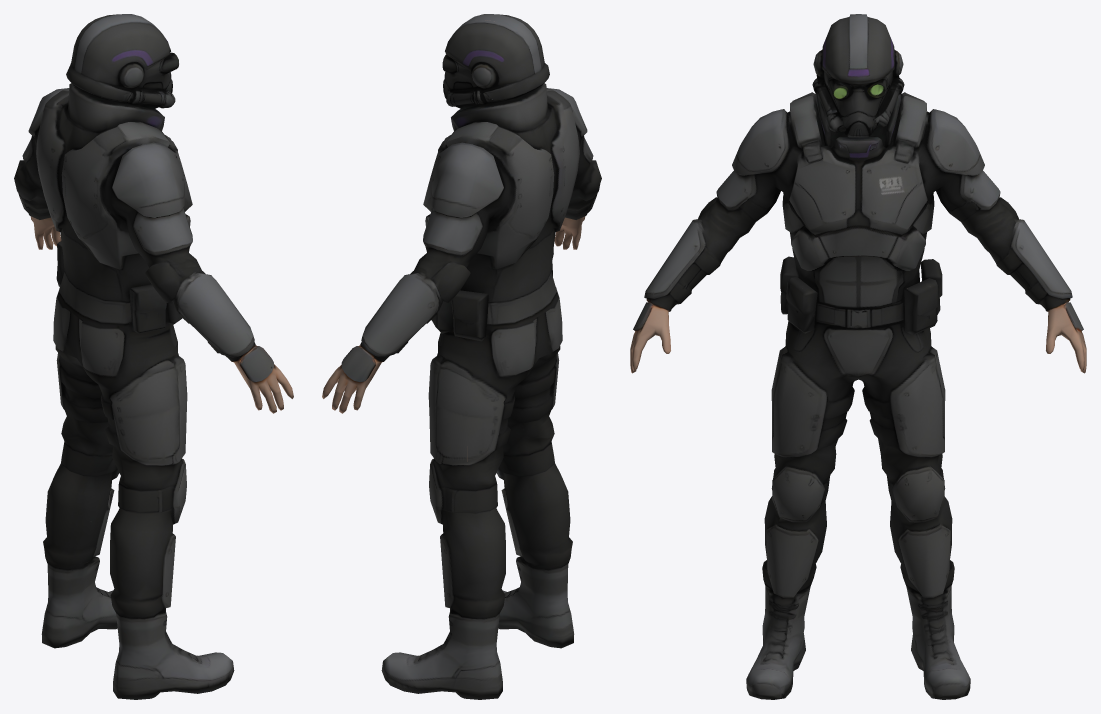
File: warden_l01_rosebud_tripo.glb
3 views of the same model, side by side, from view 1: azimuth 30°, elevation 25°; view 2: azimuth 150°, elevation 25°; view 3: azimuth 270°, elevation 25° (orthographic).
Visible parts, largest first — view 1: tripo_node_f226f61b-0d11-4712-ad08-7076cd26d9b5; view 2: tripo_node_f226f61b-0d11-4712-ad08-7076cd26d9b5; view 3: tripo_node_f226f61b-0d11-4712-ad08-7076cd26d9b5.
Boxes of the visible parts, x1,y1,x2,y2 form: tripo_node_f226f61b-0d11-4712-ad08-7076cd26d9b5: [14, 14, 293, 699]; tripo_node_f226f61b-0d11-4712-ad08-7076cd26d9b5: [322, 14, 601, 699]; tripo_node_f226f61b-0d11-4712-ad08-7076cd26d9b5: [630, 14, 1086, 699].
Size of the model in its own units: 0.2104 by 0.9995 by 0.6362.
1 material, 1 textured.
